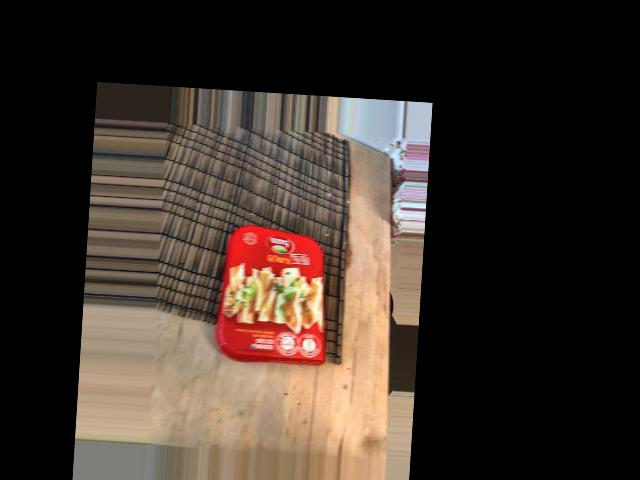cheese: (173, 191, 316, 285)
